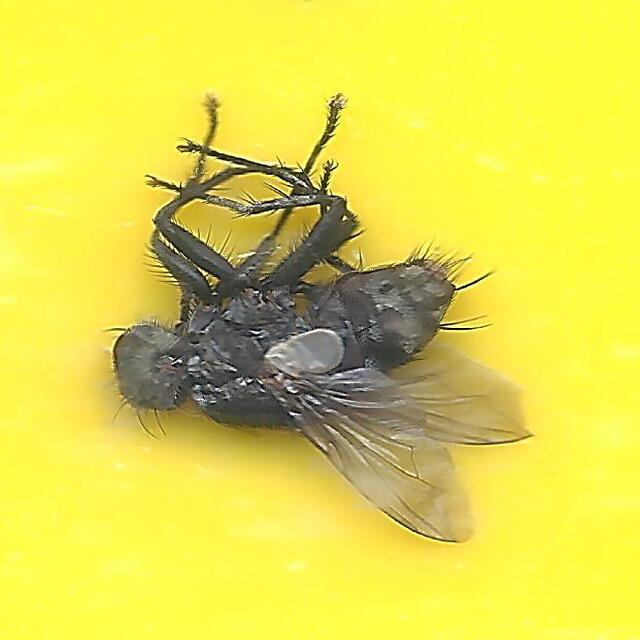Brachycera: (103, 94, 537, 546)
